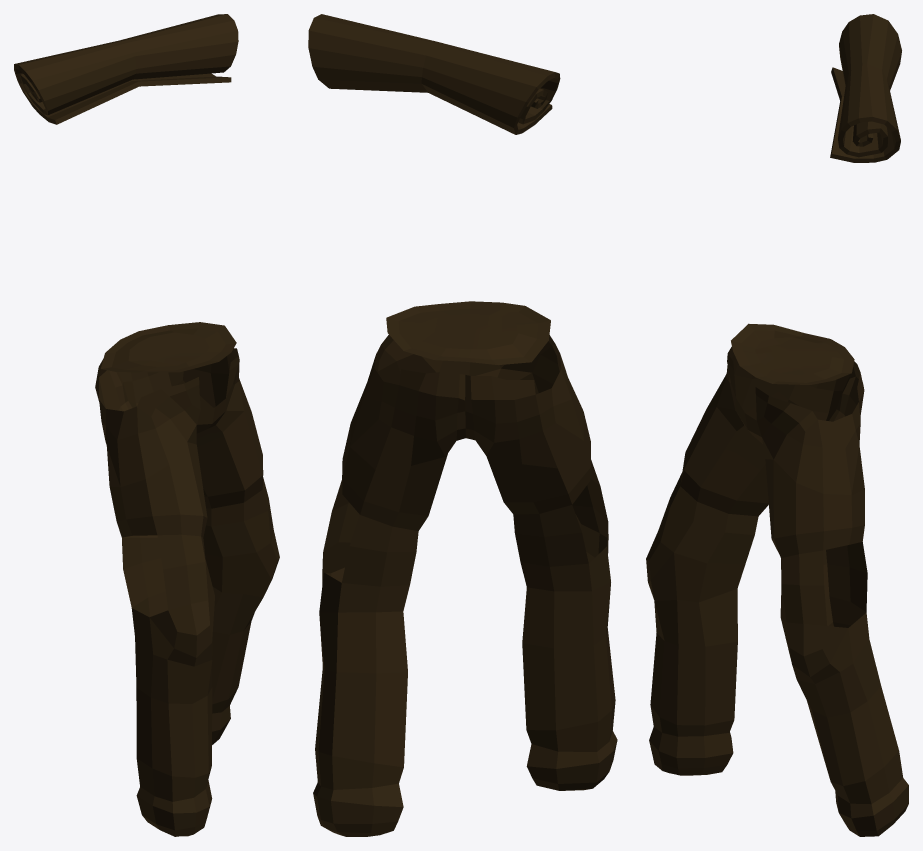
Rendered from Brown.obj.
3 renders of one model, left to right at view 1: azimuth 30°, elevation 25°; view 2: azimuth 150°, elevation 25°; view 3: azimuth 270°, elevation 25°, orthographic. The views are drawn at different scales.
Bounding box in the file's own units: 0.496 × 1.5 × 0.4905.
